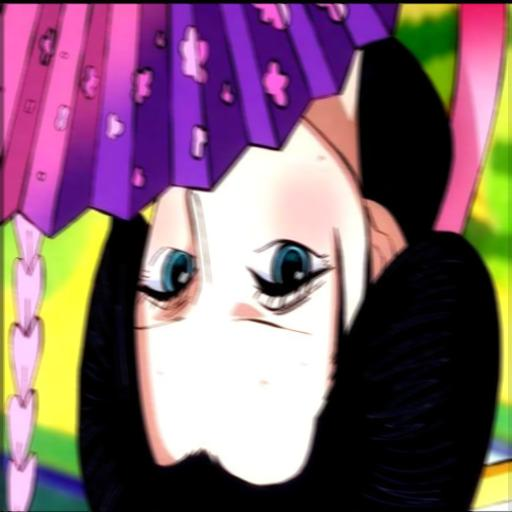NicoRobin: (22, 7, 510, 507)
